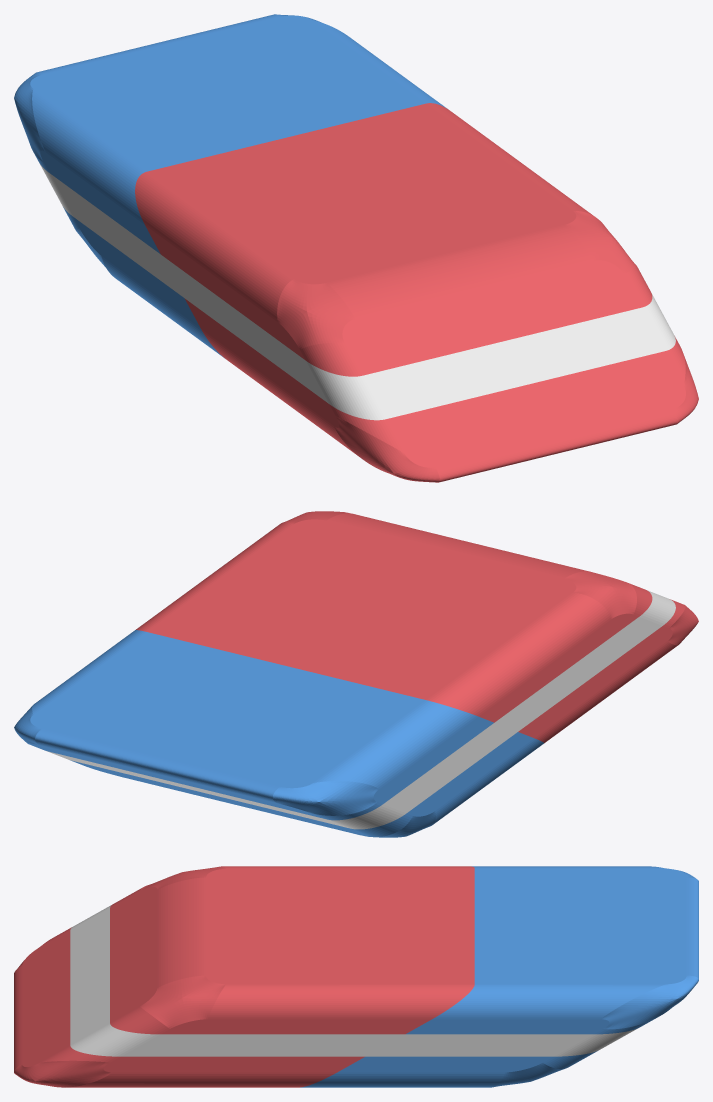
The model's file is Apagador.fbx.
3 renders of one model, top to bottom at view 1: azimuth 30°, elevation 25°; view 2: azimuth 150°, elevation 25°; view 3: azimuth 270°, elevation 25°, orthographic. The views are drawn at different scales.
Parts seen in each view (by area): view 1: Borracha; view 2: Borracha; view 3: Borracha.
Boxes of the visible parts, box(x1,y1,x2,y2) form: Borracha: box(14, 14, 698, 482); Borracha: box(14, 511, 698, 837); Borracha: box(14, 866, 698, 1087).
Size of the model in its own units: 8.74 by 2.99 by 18.39.
